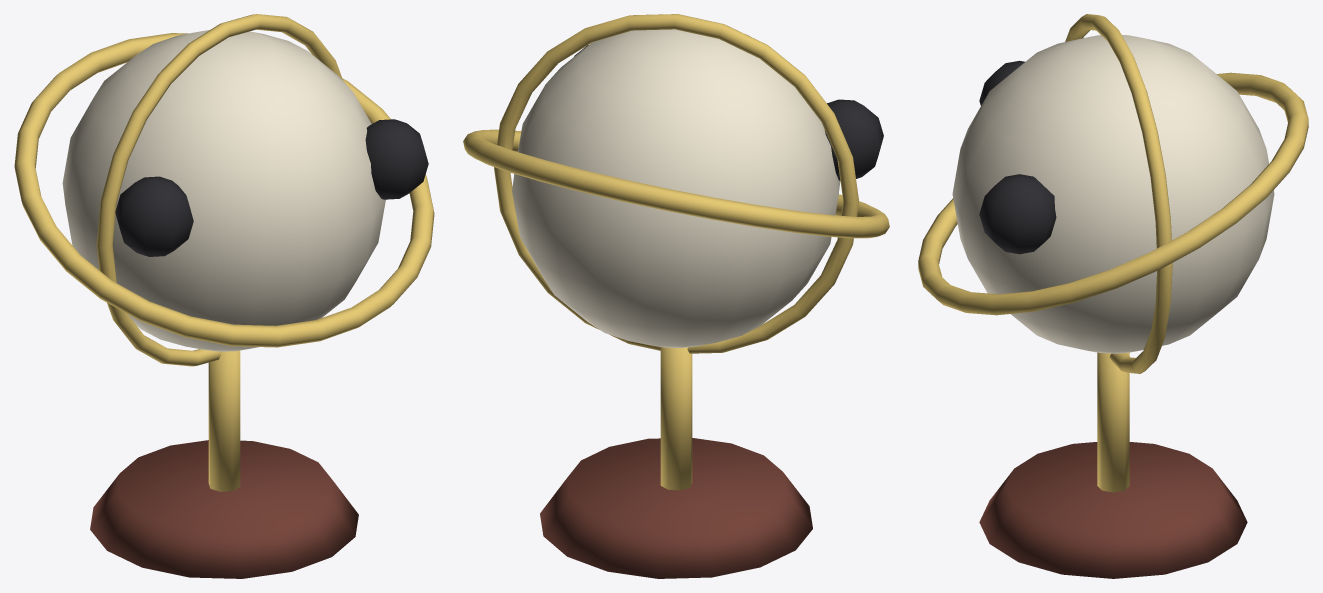
Rendered from globe_skull.glb.
The picture shows the model from 3 angles, left to right: view 1: azimuth 30°, elevation 25°; view 2: azimuth 150°, elevation 25°; view 3: azimuth 270°, elevation 25°; orthographic projection. The views are drawn at different scales.
Parts seen in each view (by area): view 1: GD_globe_skull__m2, GD_globe_skull__m1, GD_globe_skull__m0, GD_globe_skull__m3; view 2: GD_globe_skull__m2, GD_globe_skull__m1, GD_globe_skull__m0, GD_globe_skull__m3; view 3: GD_globe_skull__m2, GD_globe_skull__m0, GD_globe_skull__m1, GD_globe_skull__m3.
Boxes of the visible parts, box(x1,y1,x2,y2) form: GD_globe_skull__m2: box(62, 30, 385, 351); GD_globe_skull__m1: box(14, 14, 434, 491); GD_globe_skull__m0: box(90, 440, 358, 578); GD_globe_skull__m3: box(115, 119, 428, 256); GD_globe_skull__m2: box(512, 29, 840, 347); GD_globe_skull__m1: box(463, 14, 889, 490); GD_globe_skull__m0: box(540, 438, 812, 578); GD_globe_skull__m3: box(574, 45, 883, 180); GD_globe_skull__m2: box(952, 35, 1274, 353); GD_globe_skull__m0: box(979, 442, 1247, 578); GD_globe_skull__m1: box(918, 14, 1308, 492); GD_globe_skull__m3: box(979, 60, 1056, 254).
Size of the model in its own units: 0.316 by 0.406 by 0.2911.
